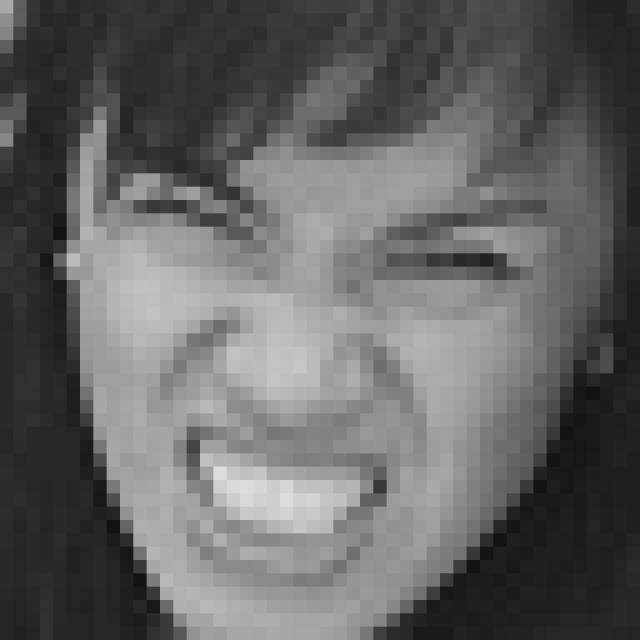angry: (97, 144, 558, 590)
